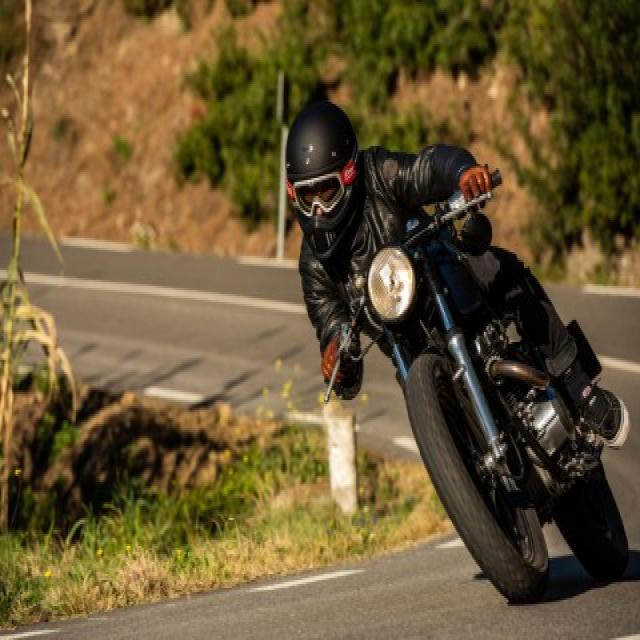Helmet: (284, 95, 367, 276)
